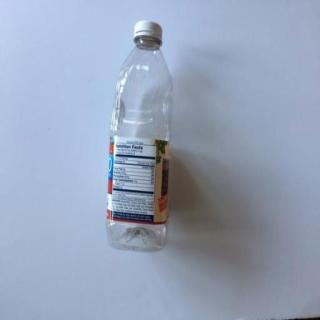Plastic-bottle: (106, 19, 177, 254)
